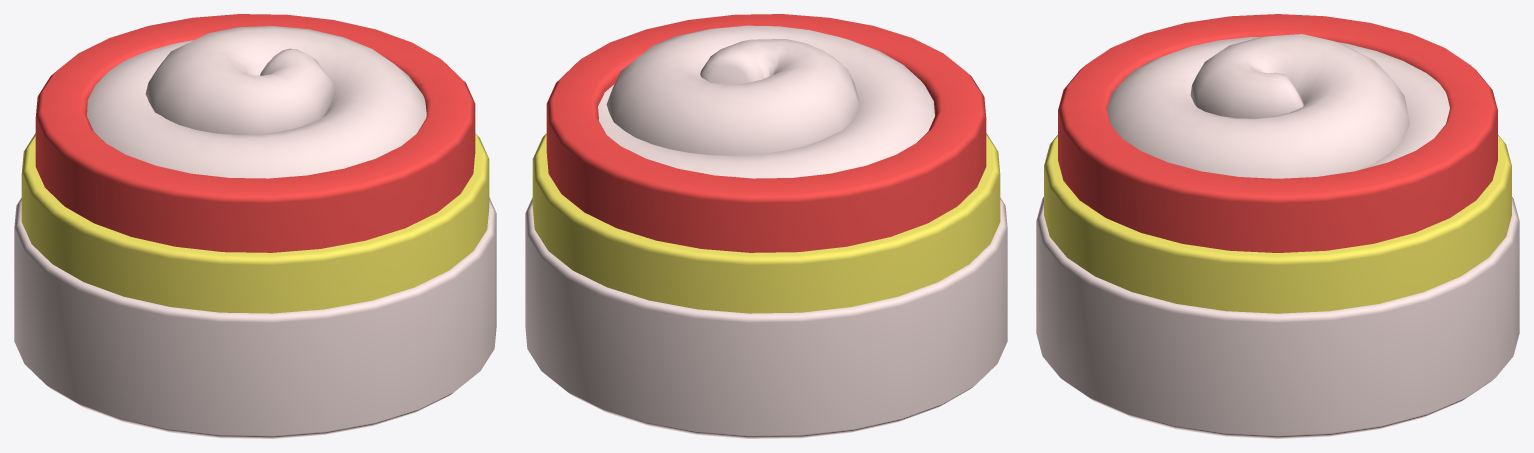
Rendered from Store_17_Cream_1.glb.
The picture shows the model from 3 angles, left to right: view 1: azimuth 30°, elevation 25°; view 2: azimuth 150°, elevation 25°; view 3: azimuth 270°, elevation 25°; orthographic projection.
Visible parts, largest first — view 1: Store_17_Cream_1; view 2: Store_17_Cream_1; view 3: Store_17_Cream_1.
Boxes of the visible parts, x1=… form: Store_17_Cream_1: x1=14, y1=14, x2=496, y2=438; Store_17_Cream_1: x1=525, y1=14, x2=1007, y2=438; Store_17_Cream_1: x1=1036, y1=14, x2=1519, y2=438.
Bounding box in the file's own units: 0.7434 × 0.4778 × 0.7434.
Materials: 1 (1 with a texture image).
